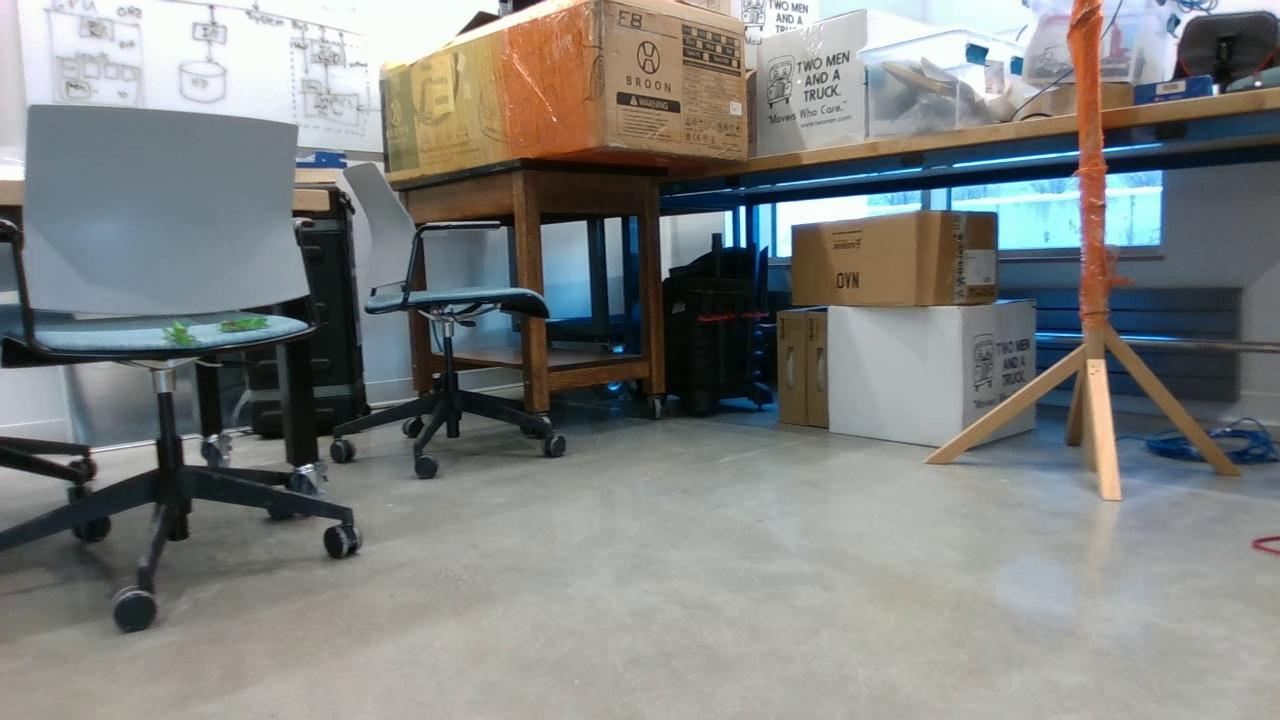grasshopper: (219, 316, 268, 332), (162, 322, 197, 344)
